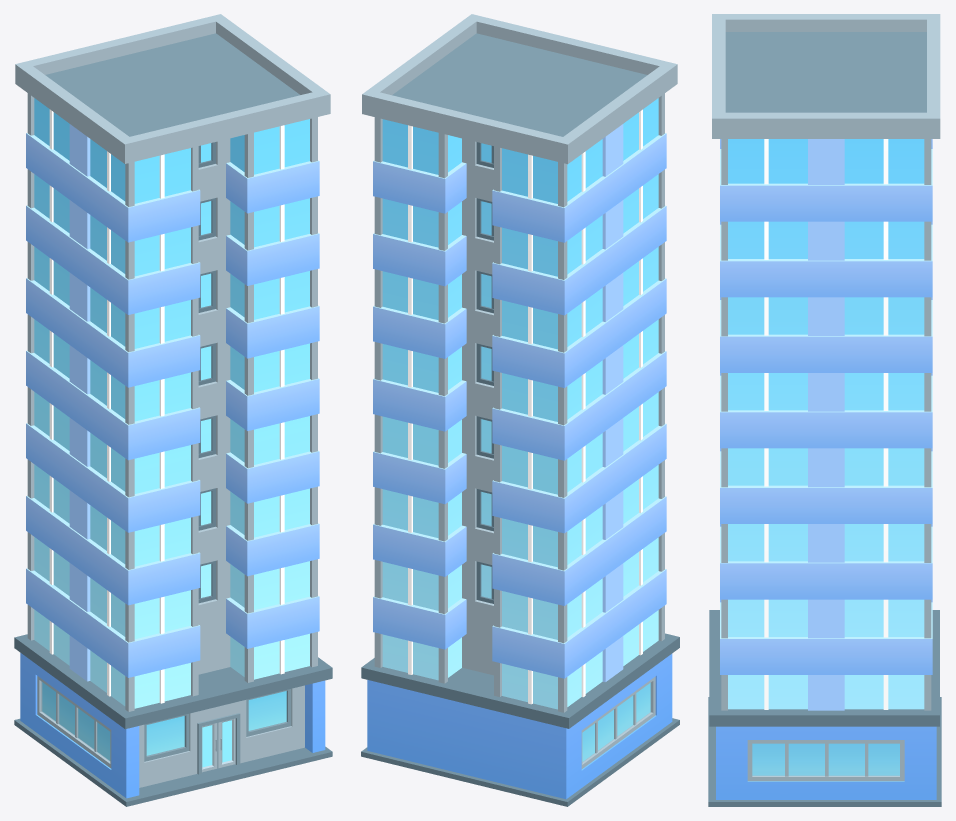
File: city2-building-living-43.glb
The picture shows the model from 3 angles, left to right: view 1: azimuth 30°, elevation 25°; view 2: azimuth 150°, elevation 25°; view 3: azimuth 270°, elevation 25°; orthographic projection. The views are drawn at different scales.
Parts seen in each view (by area): view 1: Building_Living_43; view 2: Building_Living_43; view 3: Building_Living_43.
Part boxes in pixels (left/top/right/bottom): Building_Living_43: left=14, top=14, right=332, bottom=806; Building_Living_43: left=361, top=14, right=679, bottom=806; Building_Living_43: left=708, top=14, right=941, bottom=806.
Size of the model in its own units: 9.92 by 30.2 by 9.28.
2 materials, 2 textured.
